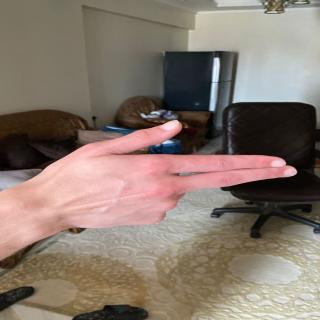GHAYN: (31, 115, 310, 234)
